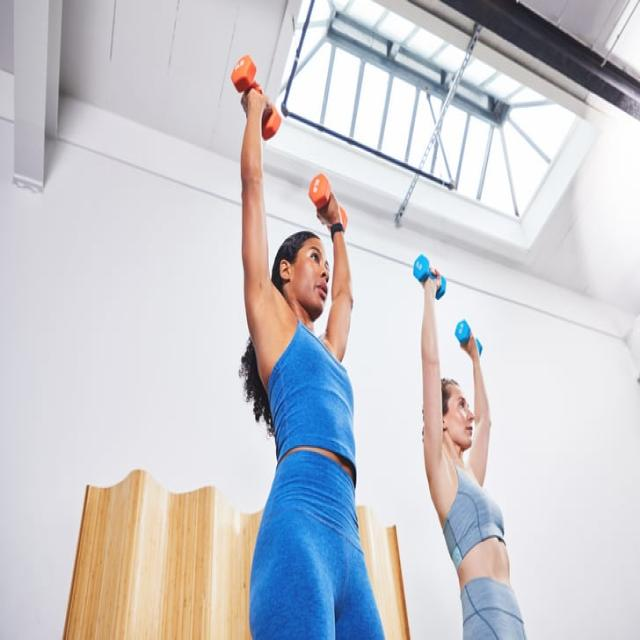adult: (238, 86, 385, 640), (420, 273, 526, 640)
